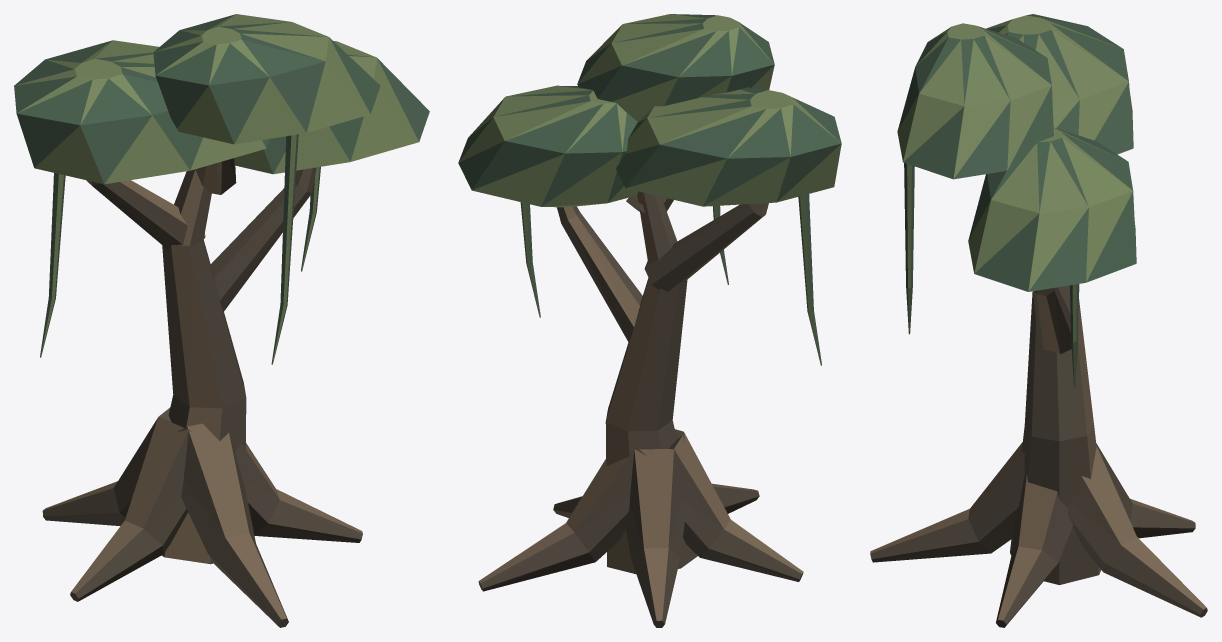
File: AE_Swamp_RootWillow.fbx
The picture shows the model from 3 angles, left to right: view 1: azimuth 30°, elevation 25°; view 2: azimuth 150°, elevation 25°; view 3: azimuth 270°, elevation 25°; orthographic projection. The views are drawn at different scales.
Visible parts, largest first — view 1: AE_Swamp_RootWillow; view 2: AE_Swamp_RootWillow; view 3: AE_Swamp_RootWillow.
Boxes of the visible parts, box(x1,y1,x2,y2) form: AE_Swamp_RootWillow: box(14, 14, 429, 627); AE_Swamp_RootWillow: box(458, 14, 841, 627); AE_Swamp_RootWillow: box(870, 14, 1207, 627).
Bounding box in the file's own units: 1.75 × 2.27 × 1.33.
